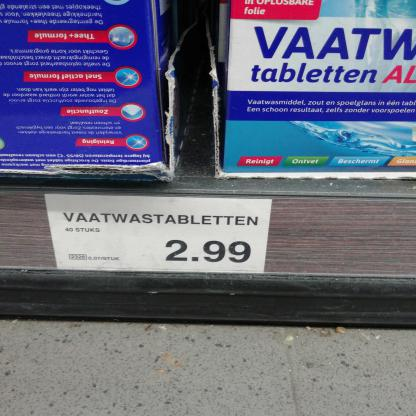prtg: (46, 195, 273, 275)
